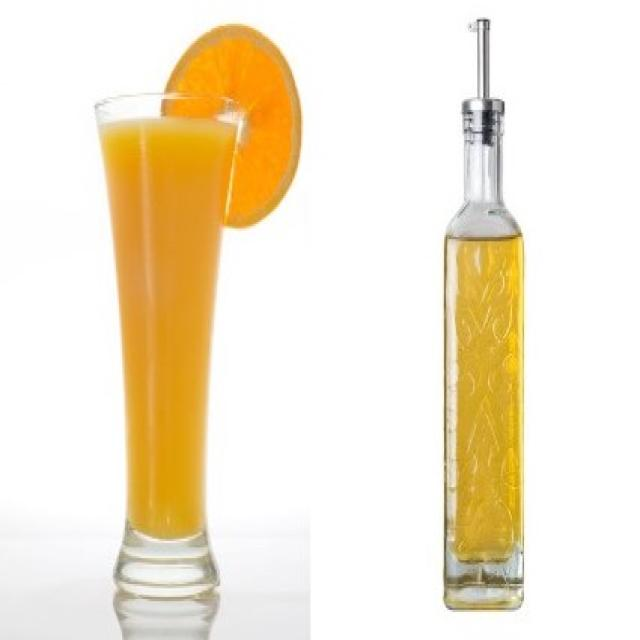electronic: (90, 92, 244, 613), (438, 12, 527, 615)
